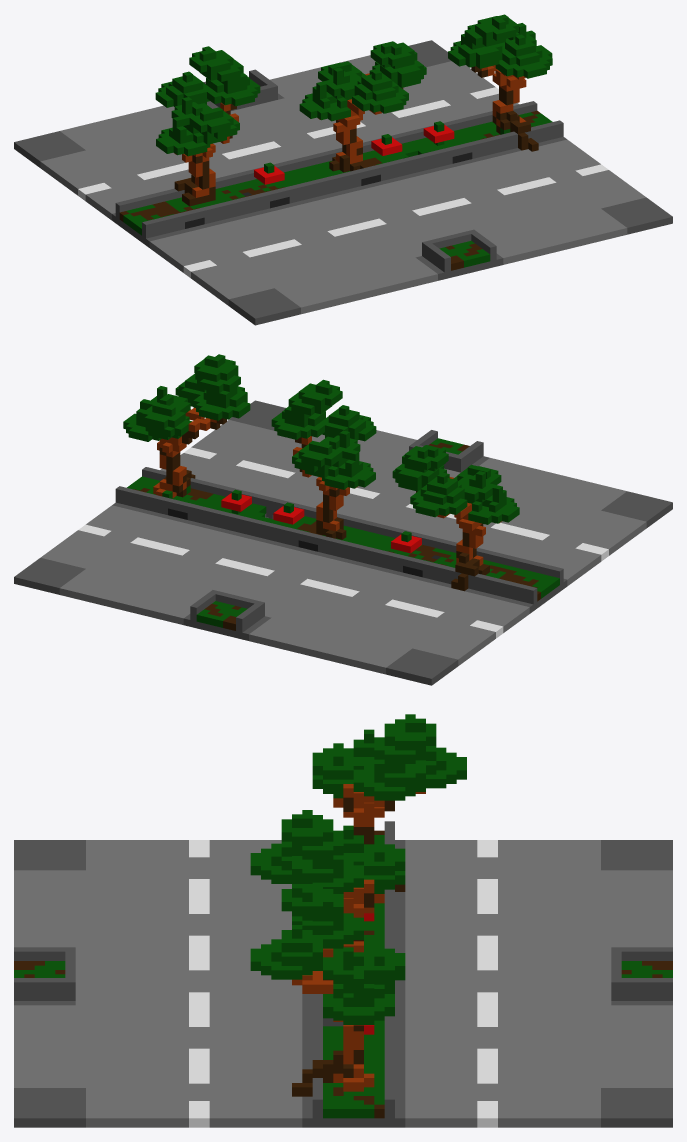
The model's file is StreetKreuzungWinWin.obj.
The picture shows the model from 3 angles, top to bottom: view 1: azimuth 30°, elevation 25°; view 2: azimuth 150°, elevation 25°; view 3: azimuth 270°, elevation 25°; orthographic projection. The views are drawn at different scales.
Parts seen in each view (by area): view 1: StreetKreuzungWinWin; view 2: StreetKreuzungWinWin; view 3: StreetKreuzungWinWin.
Part boxes in pixels (x1,y1,x2,y2): StreetKreuzungWinWin: (14, 14, 672, 325); StreetKreuzungWinWin: (14, 354, 672, 685); StreetKreuzungWinWin: (14, 714, 672, 1127).
Bounding box in the file's own units: 64 × 21 × 64.
1 material, 1 textured.
